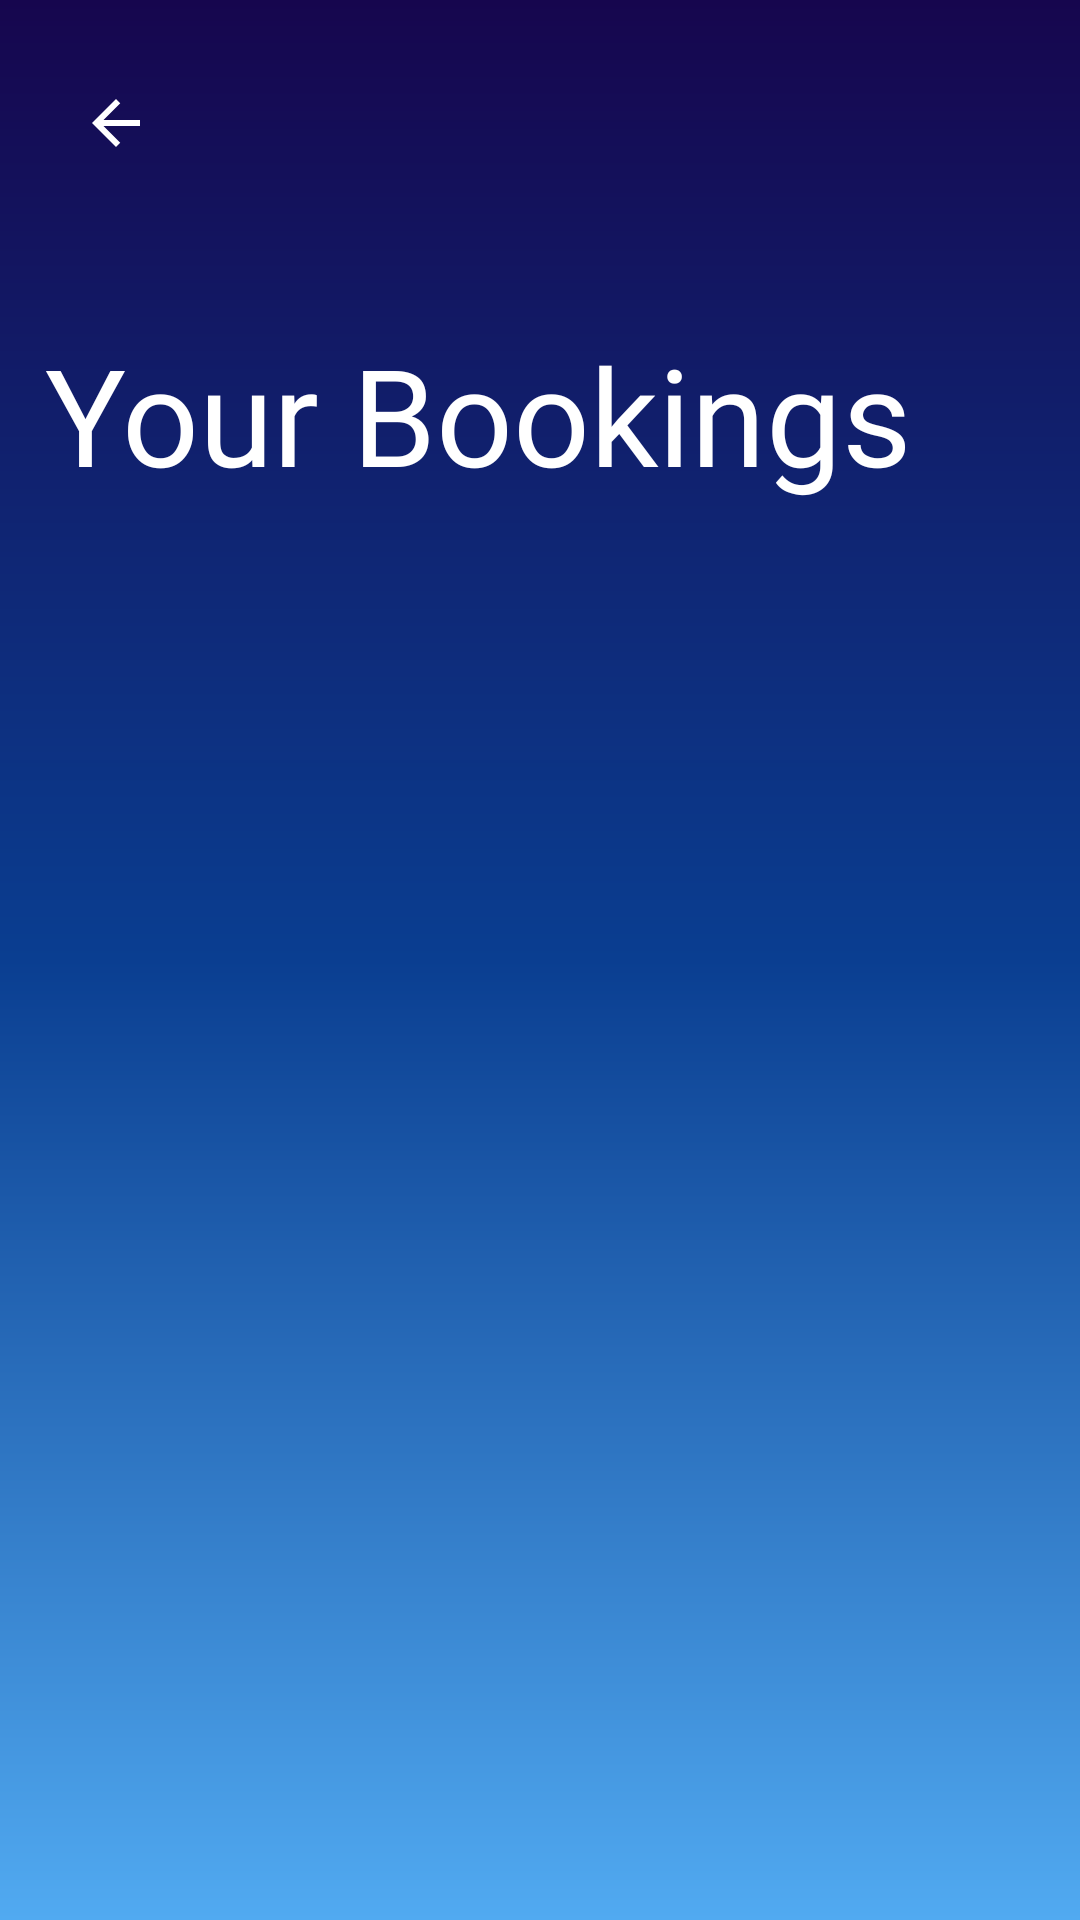

Screen size 1080 × 1920. Icon name, then its box in pixels as BBox(x1, y1, x2, y2):
arrow back: BBox(92, 99, 140, 147)
